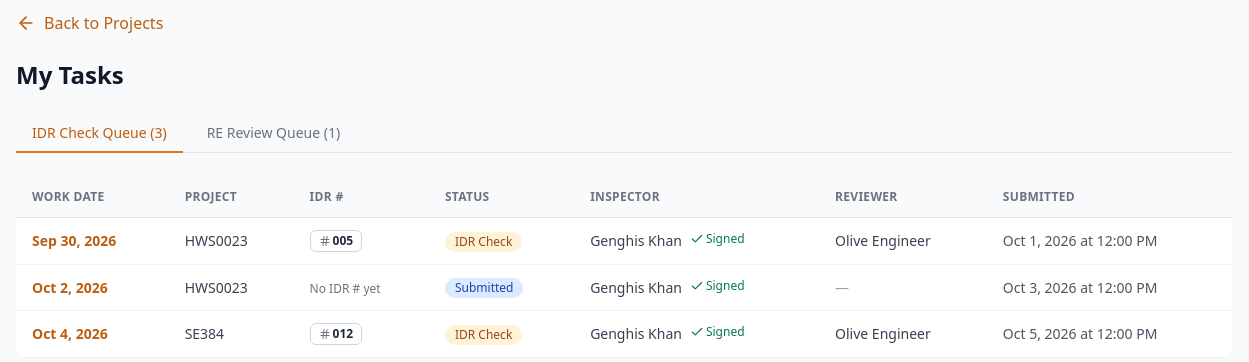
it: ReviewQueuePage — the queues › switches to Stage 2 without asking the backend again
Click the tab "RE Review Queue (1)".
click(273, 134)  # box top-left (191, 115), bottom-right (356, 153)
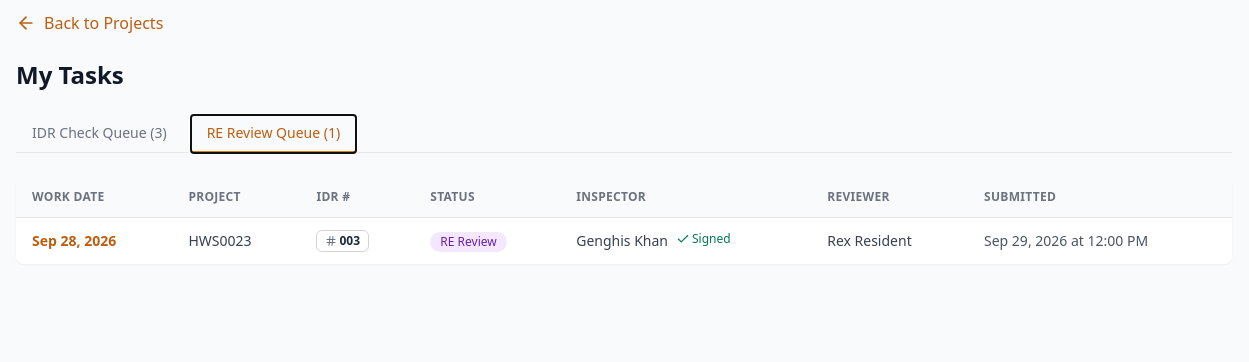
Now the row that starts with "Sep 28, 2026" shows "Rex Resident", box top-left (827, 231), bottom-right (912, 250)
Now the row that starts with "Sep 28, 2026" shows "RE Review", box top-left (440, 232), bottom-right (497, 250)
